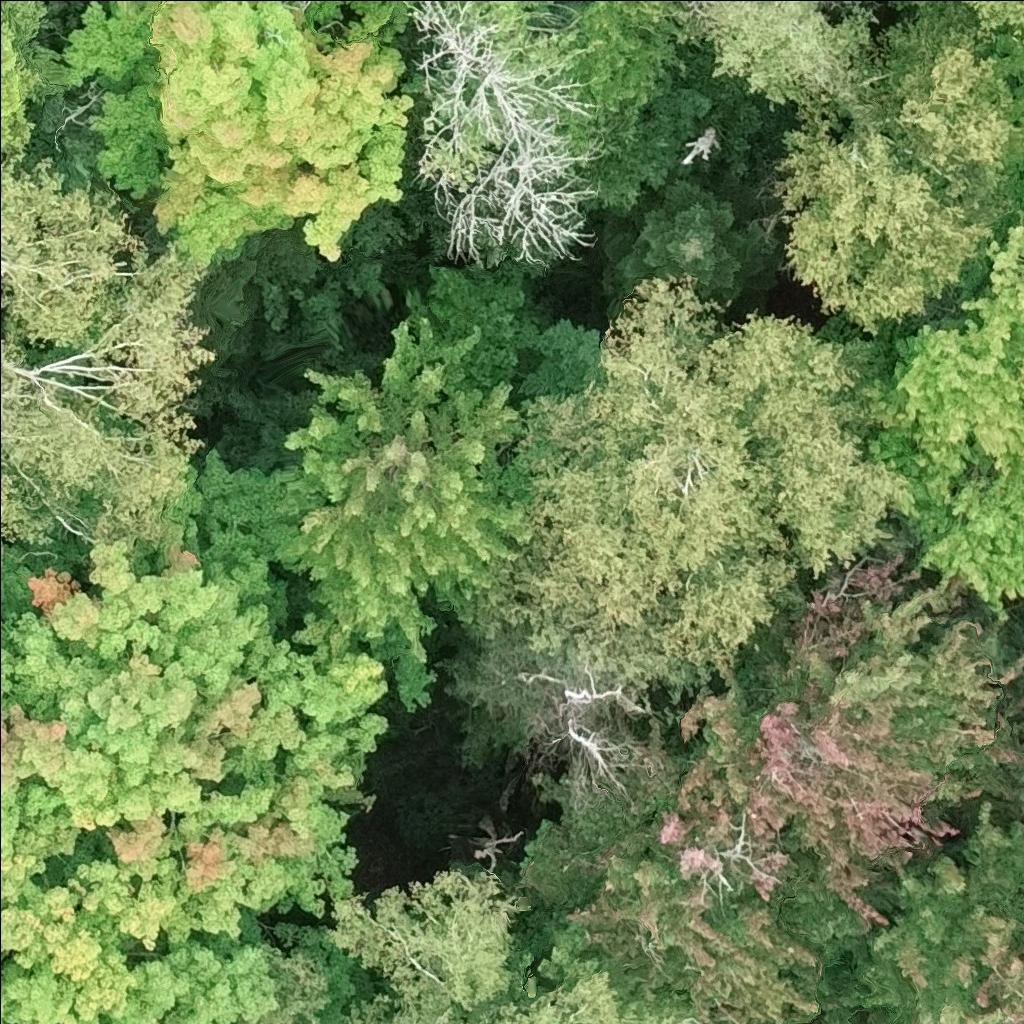crown: (0, 448, 393, 1023), (473, 272, 914, 702), (655, 552, 1023, 926), (273, 286, 534, 707), (60, 0, 419, 271), (0, 155, 219, 571), (772, 0, 1023, 336), (559, 812, 824, 1023), (408, 0, 606, 275), (862, 204, 1023, 478), (842, 796, 1023, 1023), (323, 865, 533, 1023), (869, 429, 1023, 621), (696, 0, 883, 132), (84, 916, 280, 1023), (600, 176, 756, 309), (479, 967, 696, 1023), (0, 0, 67, 170), (348, 990, 470, 1023), (962, 0, 1023, 48), (680, 124, 721, 165), (1011, 771, 1023, 824), (899, 0, 926, 13)
